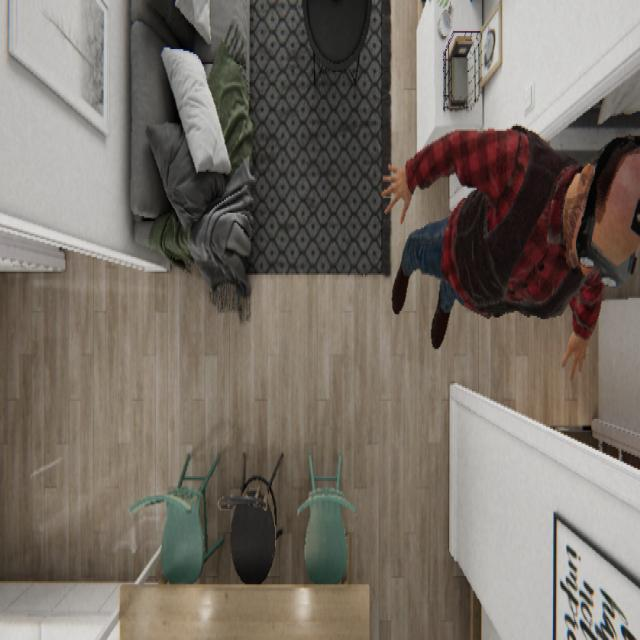Human: (381, 123, 638, 380)
